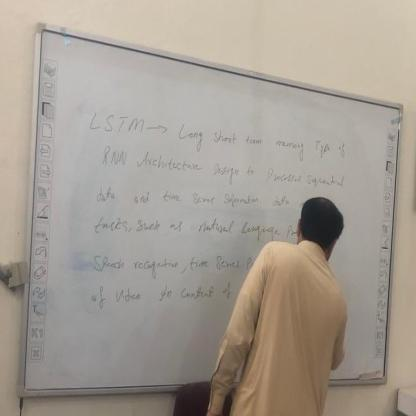Handwritten text: (80, 100, 360, 169), (90, 139, 353, 206), (88, 177, 299, 220), (75, 274, 236, 319), (91, 210, 303, 244), (87, 244, 260, 278)
Lecturer: (225, 189, 352, 399)
Whiteboard: (11, 16, 413, 416)
